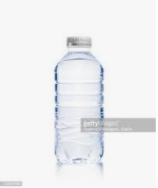Bottle: (56, 37, 104, 162)
